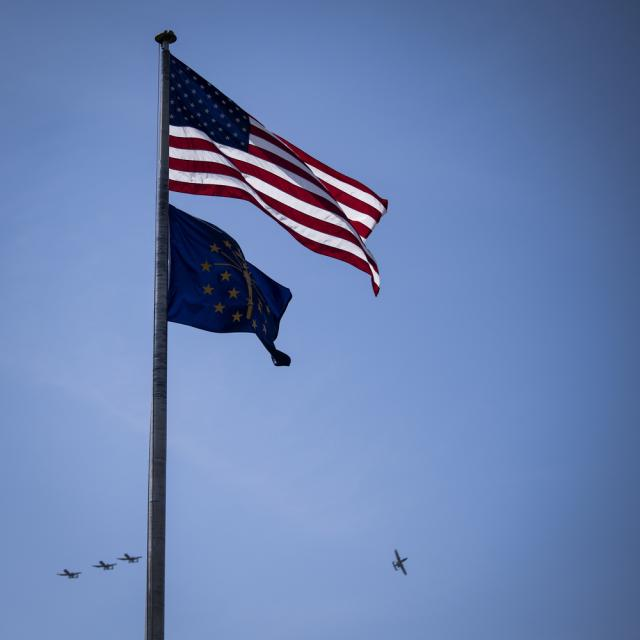MIL_Plane: (391, 548, 408, 576), (56, 568, 82, 580), (91, 560, 118, 571), (116, 553, 143, 564)
